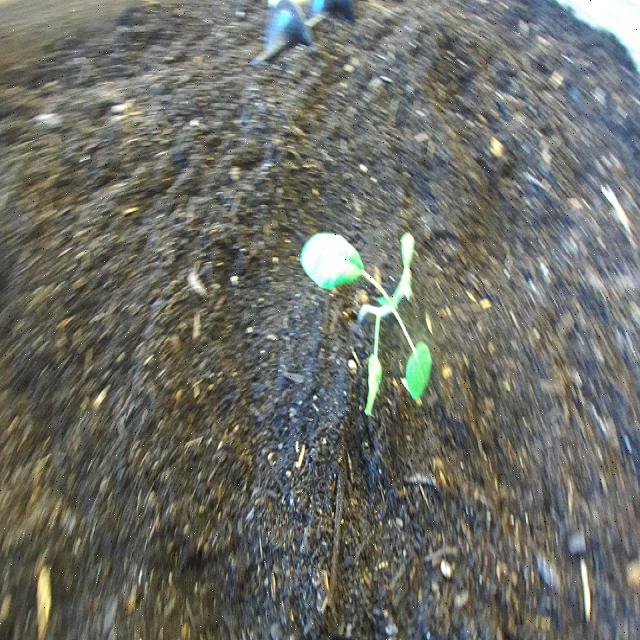Healthy: (298, 220, 434, 415)
